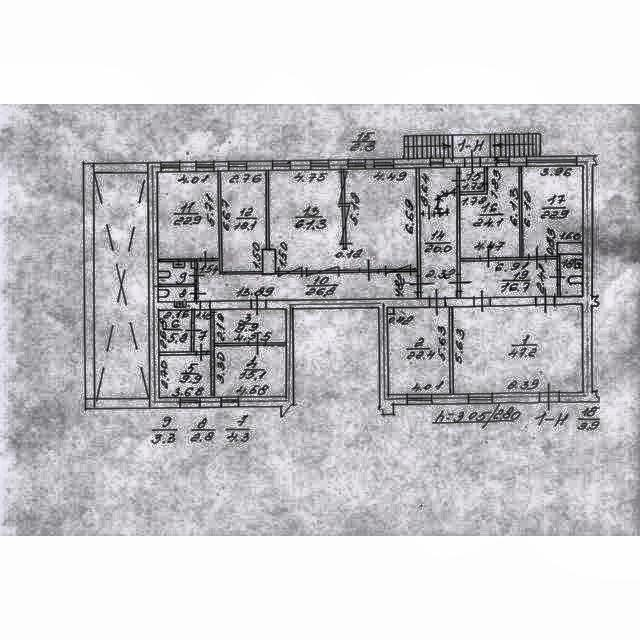room: (269, 169, 417, 271), (452, 308, 584, 394), (196, 259, 418, 301), (521, 166, 582, 256), (460, 167, 520, 258), (388, 307, 450, 395), (158, 171, 219, 259), (420, 168, 457, 298), (221, 171, 266, 272), (460, 260, 557, 297), (215, 348, 287, 397), (405, 136, 539, 157), (215, 310, 286, 342), (160, 355, 211, 397), (159, 310, 191, 352), (560, 255, 582, 296), (159, 262, 195, 284), (159, 287, 194, 307), (195, 310, 210, 351), (460, 168, 483, 190)
